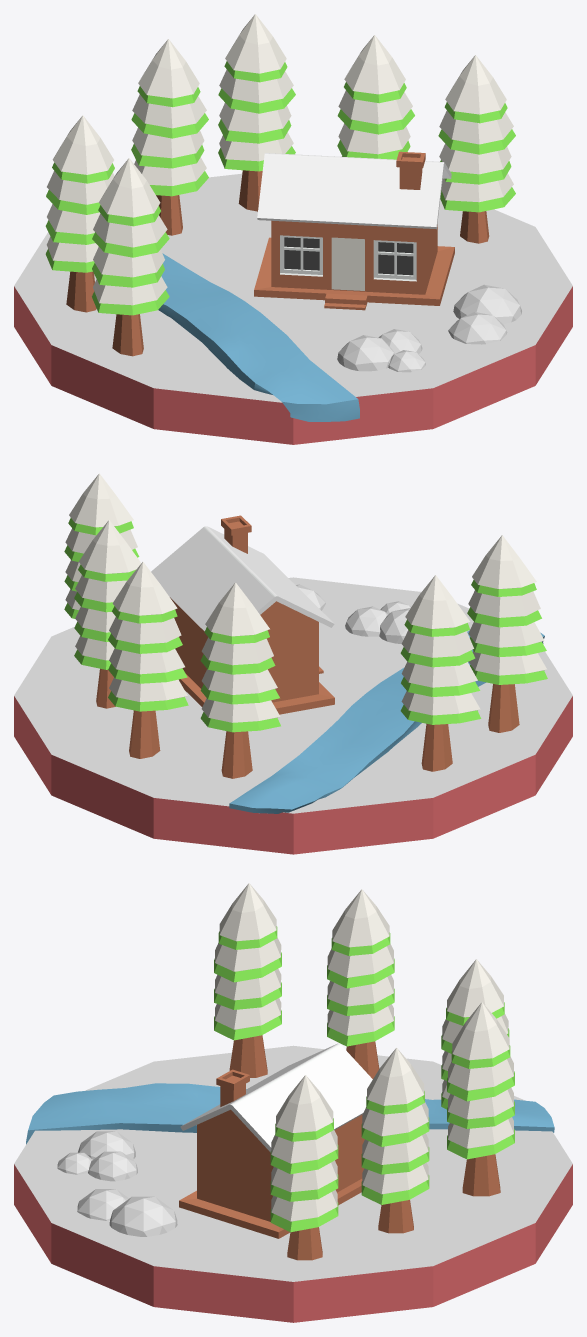
Rendered from houseland2.fbx.
3 views of the same model, one above another, from view 1: azimuth 30°, elevation 25°; view 2: azimuth 150°, elevation 25°; view 3: azimuth 270°, elevation 25° (orthographic).
Visible parts, largest first — view 1: Circle.005, Circle.004, Plane.016, Cube.012, Plane.021, Plane.022, Cube.013, Plane.026, Plane.015, Plane.019, Plane.013, Cube.009 (+13 smaller); view 2: Circle.005, Circle.004, Plane.016, Plane.015, Plane.019, Plane.026, Plane.021, Cube.012, Cube.013, Plane.013, Plane.022, Plane.020 (+7 smaller); view 3: Circle.005, Circle.004, Cube.013, Plane.016, Plane.013, Plane.022, Plane.019, Plane.021, Plane.015, Cube.012, Plane.026, Icosphere.002 (+10 smaller).
Boxes of the visible parts, bbox=[...] form: Circle.005: bbox=[14, 173, 572, 402]; Circle.004: bbox=[14, 286, 572, 444]; Plane.016: bbox=[158, 253, 359, 421]; Cube.012: bbox=[257, 153, 451, 229]; Plane.021: bbox=[92, 158, 169, 315]; Plane.022: bbox=[438, 55, 515, 212]; Cube.013: bbox=[254, 220, 454, 305]; Plane.026: bbox=[131, 39, 208, 196]; Plane.015: bbox=[218, 14, 295, 171]; Plane.019: bbox=[45, 115, 114, 272]; Plane.013: bbox=[337, 35, 414, 159]; Cube.009: bbox=[280, 235, 416, 281]; Circle.005: bbox=[14, 577, 572, 813]; Circle.004: bbox=[14, 696, 572, 854]; Plane.016: bbox=[229, 630, 544, 813]; Plane.015: bbox=[108, 562, 188, 711]; Plane.019: bbox=[400, 575, 481, 724]; Plane.026: bbox=[200, 582, 280, 732]; Plane.021: bbox=[467, 535, 547, 684]; Cube.012: bbox=[151, 526, 334, 631]; Cube.013: bbox=[170, 597, 334, 714]; Plane.013: bbox=[74, 520, 141, 669]; Plane.022: bbox=[64, 473, 139, 618]; Plane.020: bbox=[488, 684, 519, 732]; Circle.005: bbox=[14, 1045, 572, 1281]; Circle.004: bbox=[14, 1164, 572, 1322]; Cube.013: bbox=[179, 1109, 364, 1238]; Plane.016: bbox=[26, 1083, 554, 1144]; Plane.013: bbox=[361, 1047, 429, 1204]; Plane.022: bbox=[270, 1075, 338, 1232]; Plane.019: bbox=[327, 889, 394, 1046]; Plane.021: bbox=[214, 883, 281, 1040]; Plane.015: bbox=[447, 1002, 514, 1159]; Cube.012: bbox=[180, 1043, 372, 1152]; Plane.026: bbox=[441, 959, 509, 1109]; Icosphere.002: bbox=[109, 1196, 177, 1236].
Size of the model in its own units: 1035 by 479 by 1035.
